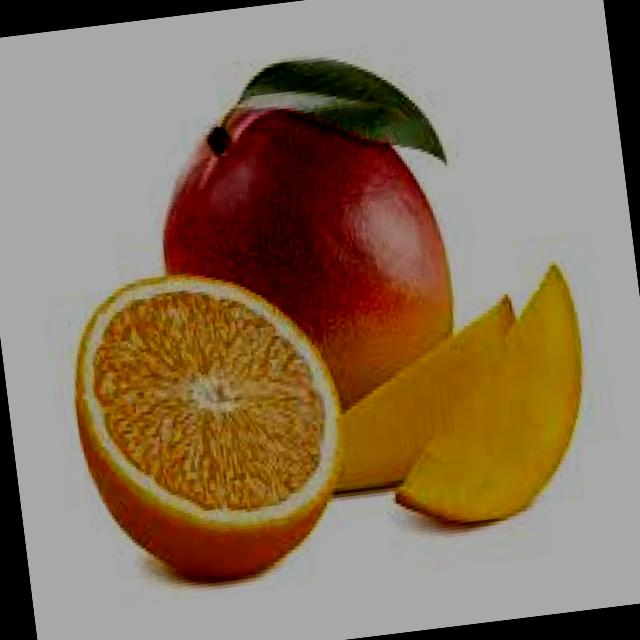Mango: (148, 77, 470, 422), (370, 261, 604, 538), (312, 288, 534, 496)
Orange: (61, 255, 359, 595)
